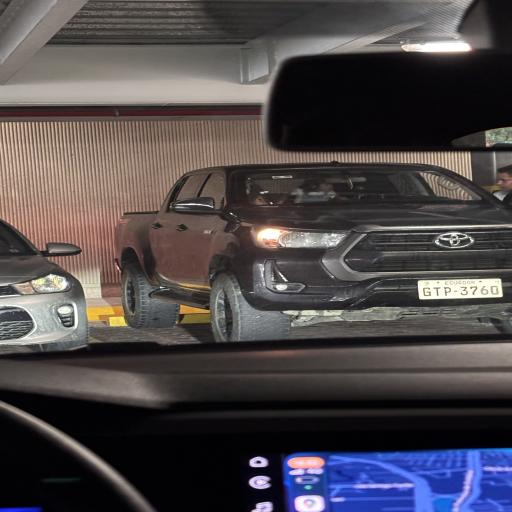license_plate: (418, 279, 502, 299)
